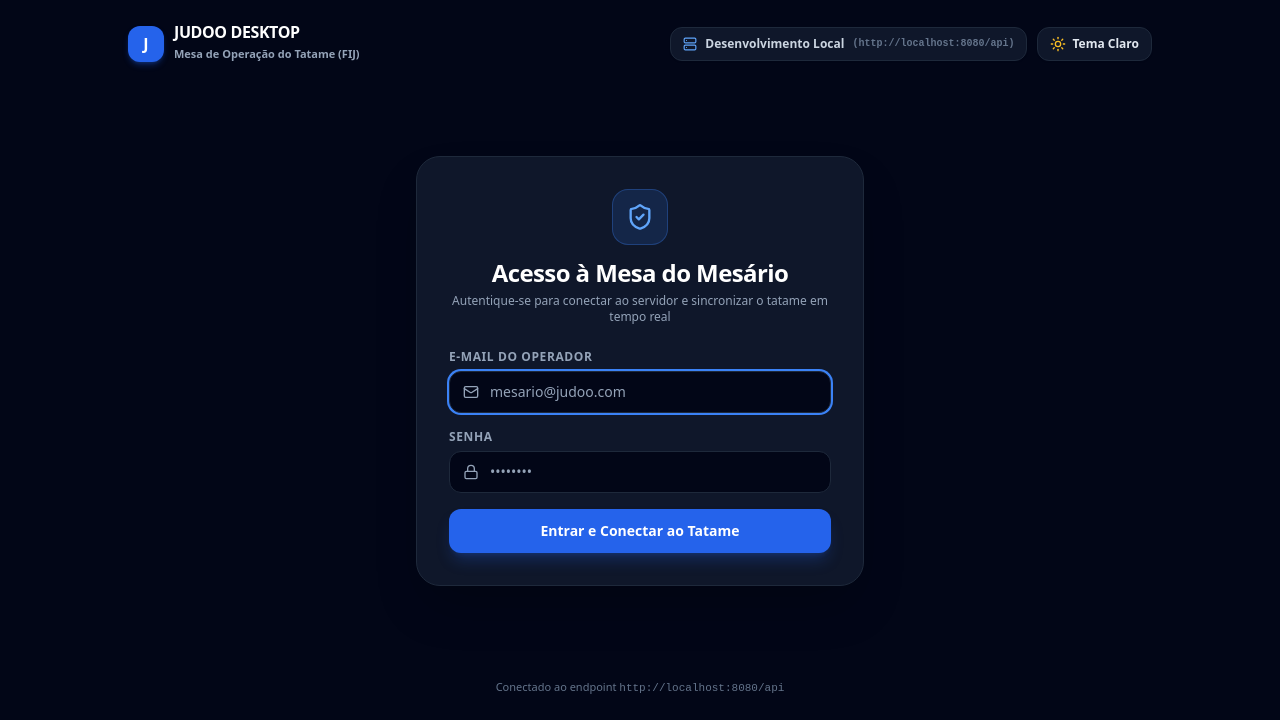
Scenario: Fluxo de Telas (LoginView -> MesaMesarioView) › exibe a tela de login ao abrir o aplicativo e permite alternar entre tema claro e escuro
The width and height of the screenshot is (1280, 720).
Expected: the heading "Acesso à Mesa do Mesário" is shown, [492, 256, 788, 289]
Expected: the field with placeholder "mesario@judoo.com" is shown, [449, 371, 831, 413]
Click the button "Tema Claro": click(1095, 44) [1038, 27, 1152, 61]
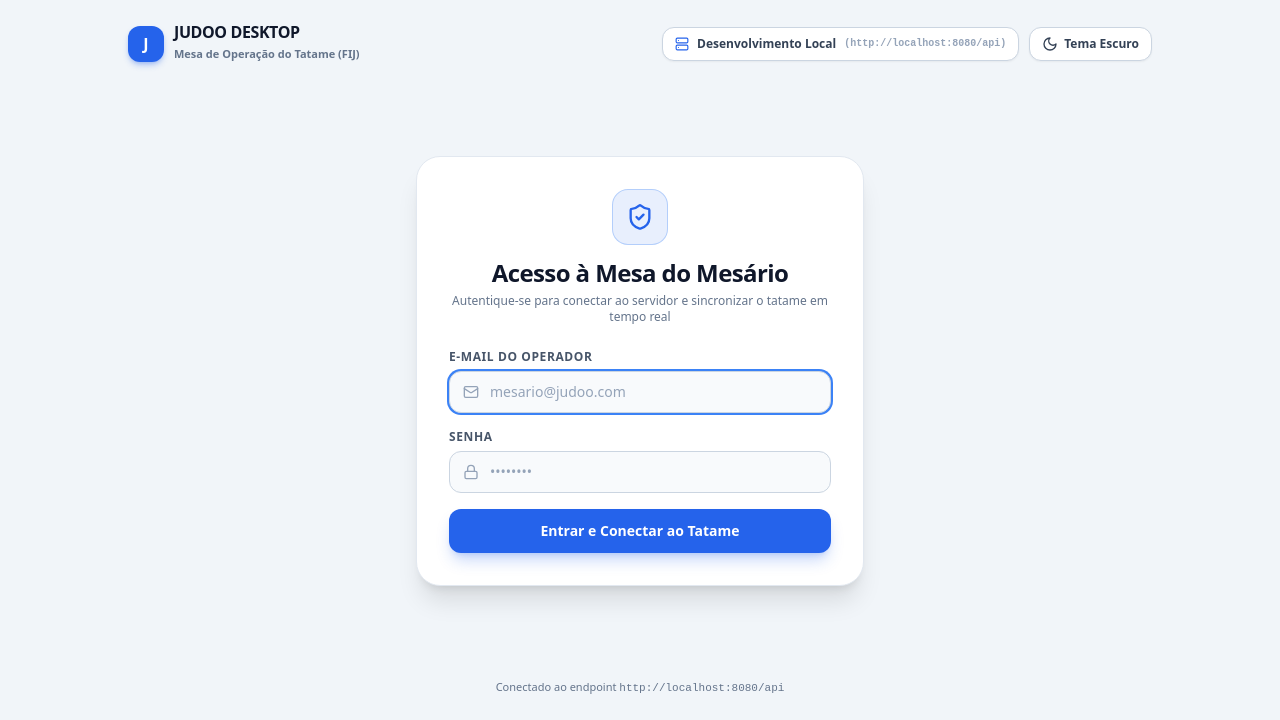
Now the button "Tema Escuro" is shown, box [1029, 27, 1152, 61]
